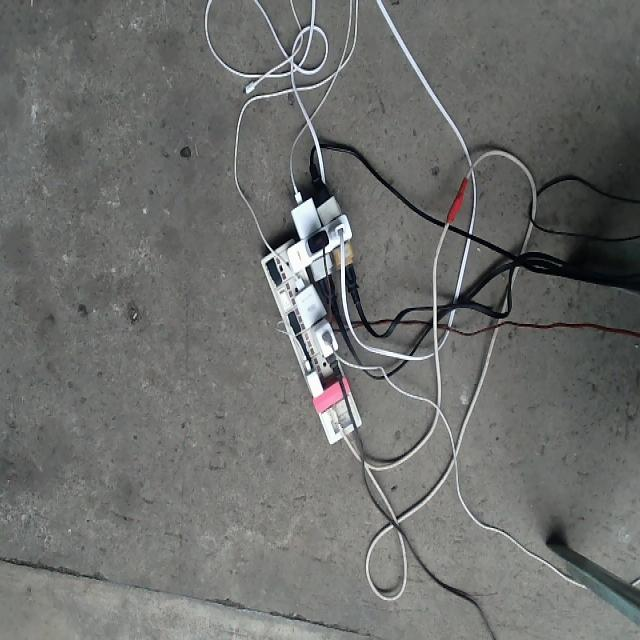-: (259, 165, 360, 444)
